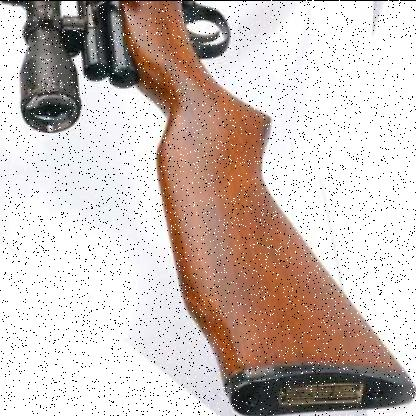rifle: (2, 1, 415, 416)
